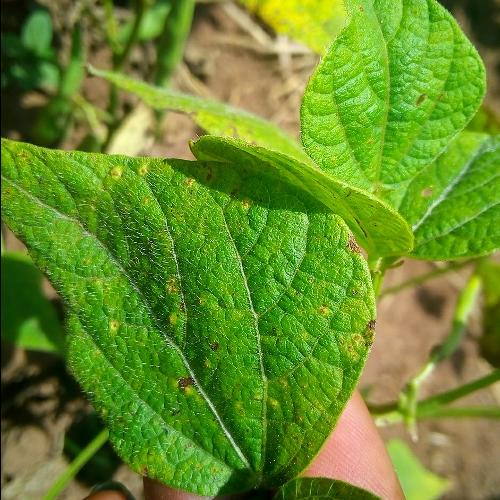embun tepung: (128, 245, 235, 412), (302, 193, 385, 383)
mozaik: (329, 35, 488, 202)
